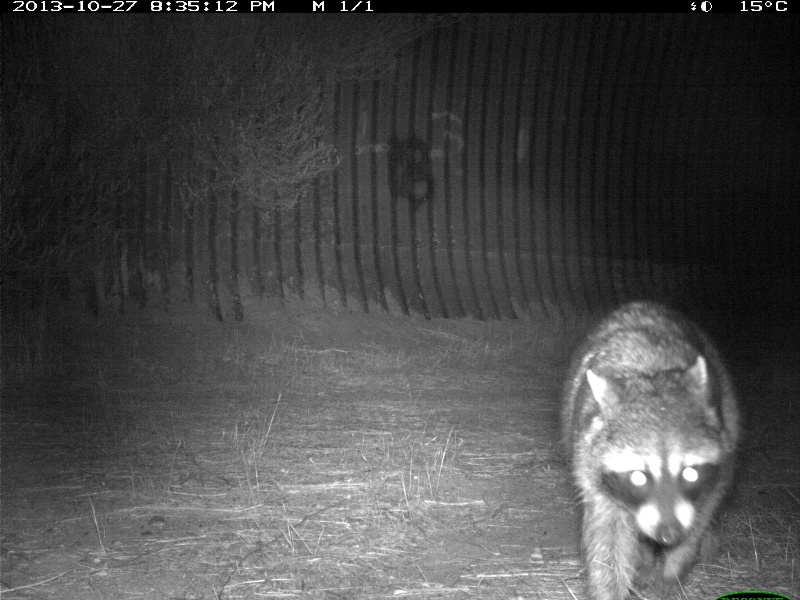raccoon: (560, 297, 743, 594)
